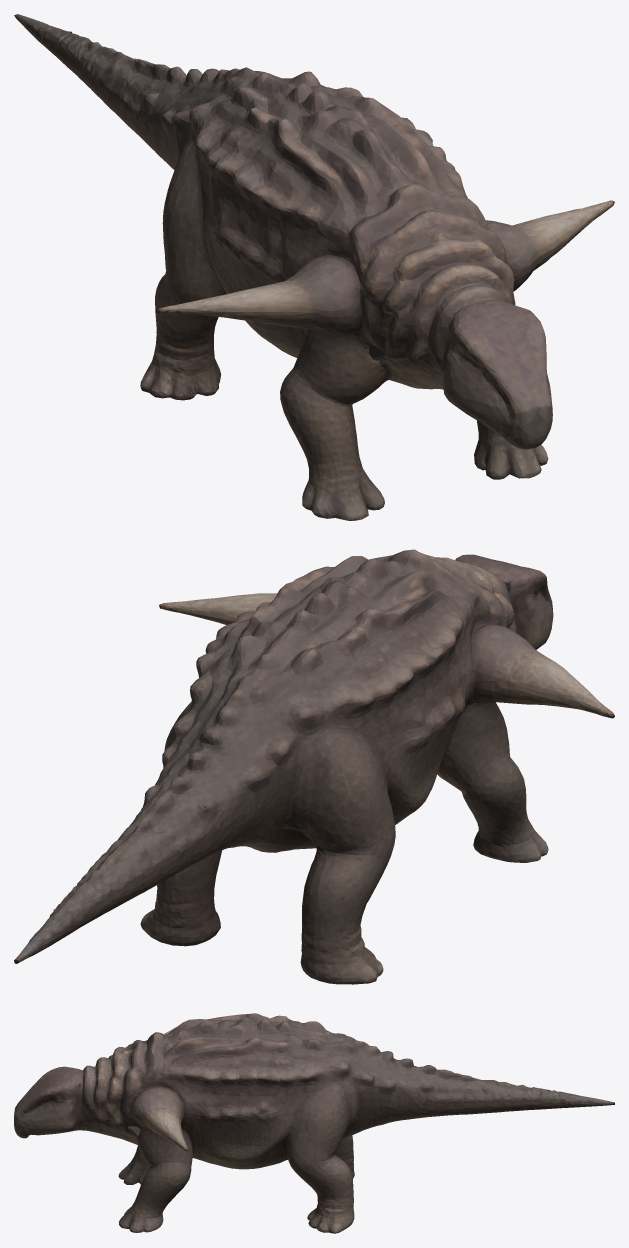
3 views of the same model, one above another, from view 1: azimuth 30°, elevation 25°; view 2: azimuth 150°, elevation 25°; view 3: azimuth 270°, elevation 25° (orthographic). The views are drawn at different scales.
Visible parts, largest first — view 1: world; view 2: world; view 3: world.
Part boxes in pixels (x1,y1,x2,y2): world: [14, 14, 614, 520]; world: [14, 549, 614, 984]; world: [14, 1013, 614, 1233].
Size of the model in its own units: 0.5061 by 0.3362 by 0.9992.
1 material, 1 textured.
